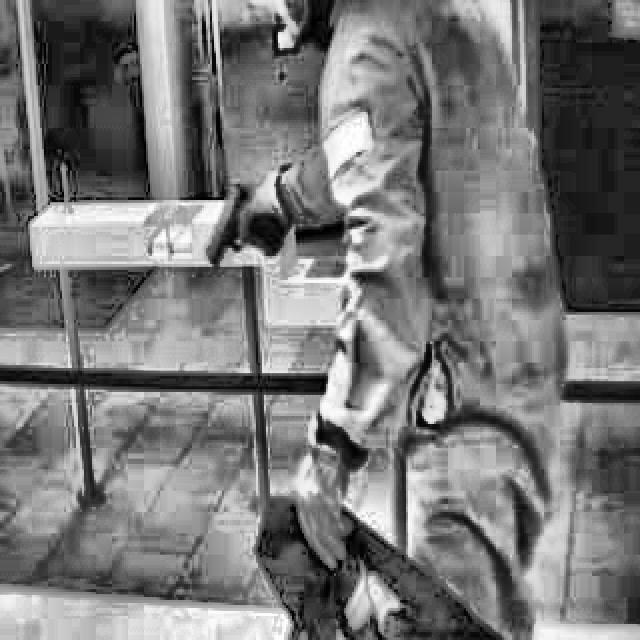robbery: (201, 8, 557, 640)
